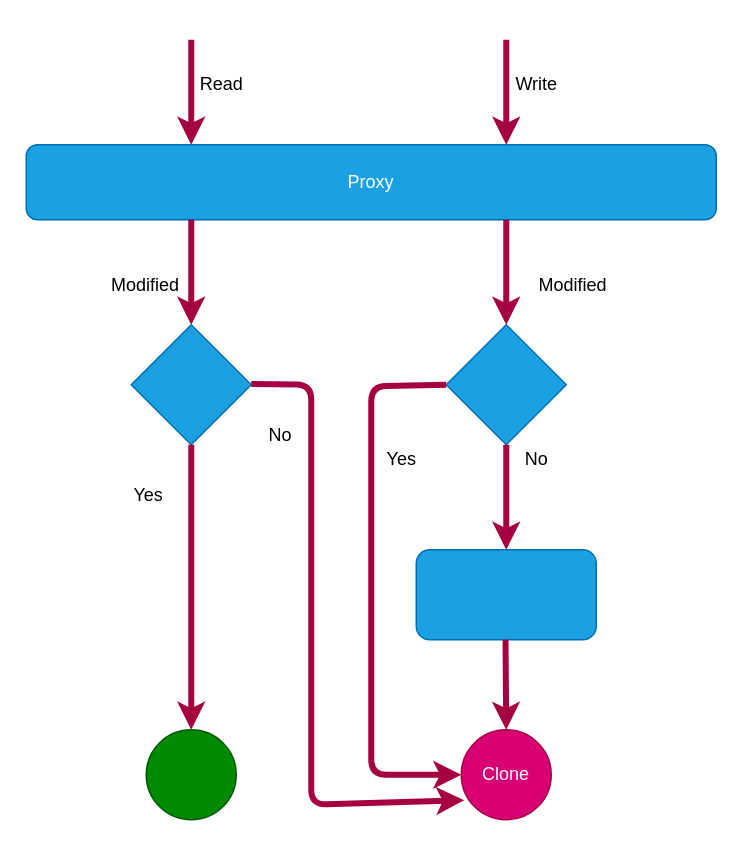
Some shapes in this 743 by 846 pixel diagram are drawn without their labels. Here are the shapes that lost their labels. From the top down, the box of each, then its label:
(415, 548, 596, 640): clone base mark modified mark parents
(145, 728, 236, 820): Base
